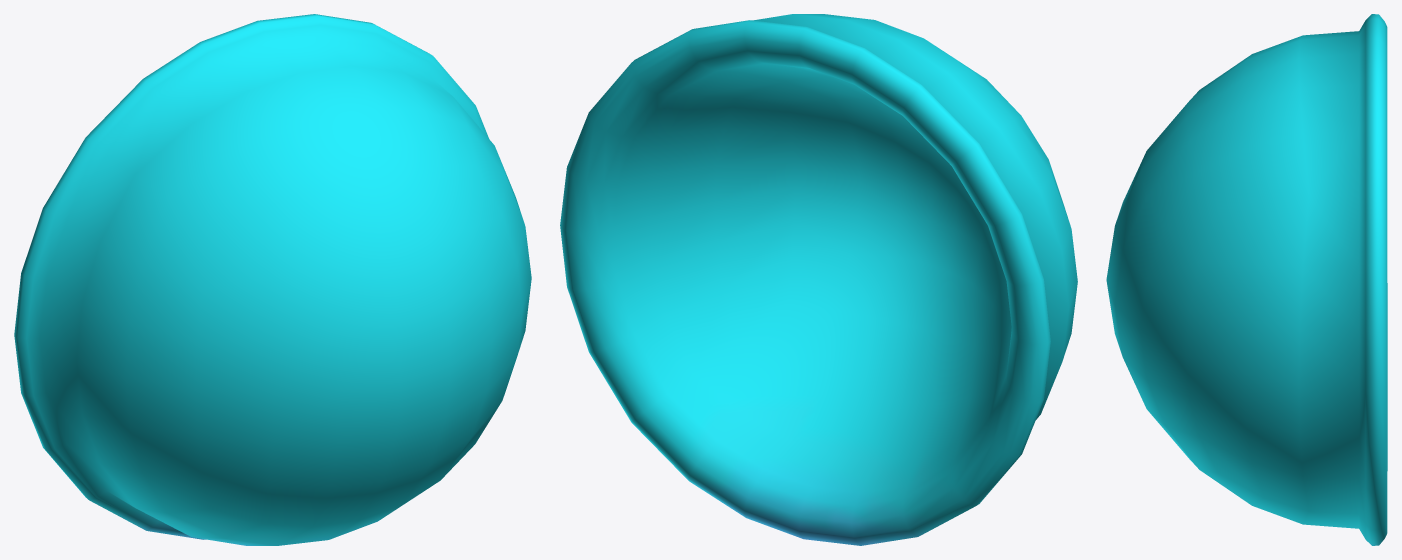
The model's file is AmongUs_Cut_04_Pupka_001_0.FBX.
The picture shows the model from 3 angles, left to right: view 1: azimuth 30°, elevation 25°; view 2: azimuth 150°, elevation 25°; view 3: azimuth 270°, elevation 25°; orthographic projection. The views are drawn at different scales.
Parts seen in each view (by area): view 1: AmongUs_Cut_04_Pupka_001_0; view 2: AmongUs_Cut_04_Pupka_001_0; view 3: AmongUs_Cut_04_Pupka_001_0.
Part boxes in pixels (x1,y1,x2,y2): AmongUs_Cut_04_Pupka_001_0: (14,14,531,545); AmongUs_Cut_04_Pupka_001_0: (560,14,1077,545); AmongUs_Cut_04_Pupka_001_0: (1106,14,1387,545).
Size of the model in its own units: 0.7857 by 0.4145 by 0.7857.
